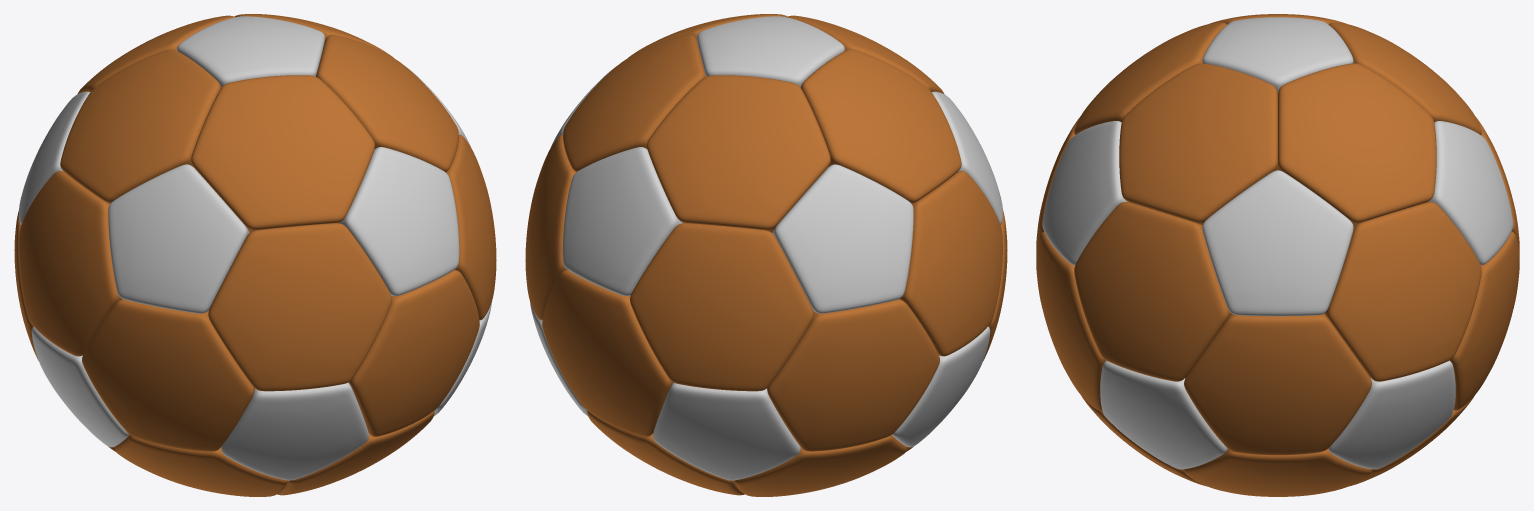
File: soccer_ball.obj
The picture shows the model from 3 angles, left to right: view 1: azimuth 30°, elevation 25°; view 2: azimuth 150°, elevation 25°; view 3: azimuth 270°, elevation 25°; orthographic projection.
Visible parts, largest first — view 1: Icosphere; view 2: Icosphere; view 3: Icosphere.
Part boxes in pixels (left/top/right/bottom): Icosphere: left=14, top=14, right=496, bottom=496; Icosphere: left=525, top=14, right=1007, bottom=496; Icosphere: left=1036, top=14, right=1519, bottom=496.
Size of the model in its own units: 1.84 by 1.84 by 1.85.
